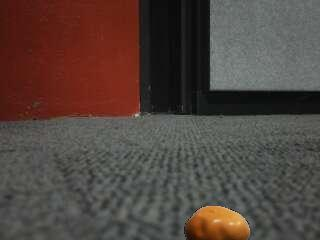Potato: (184, 202, 256, 240)
